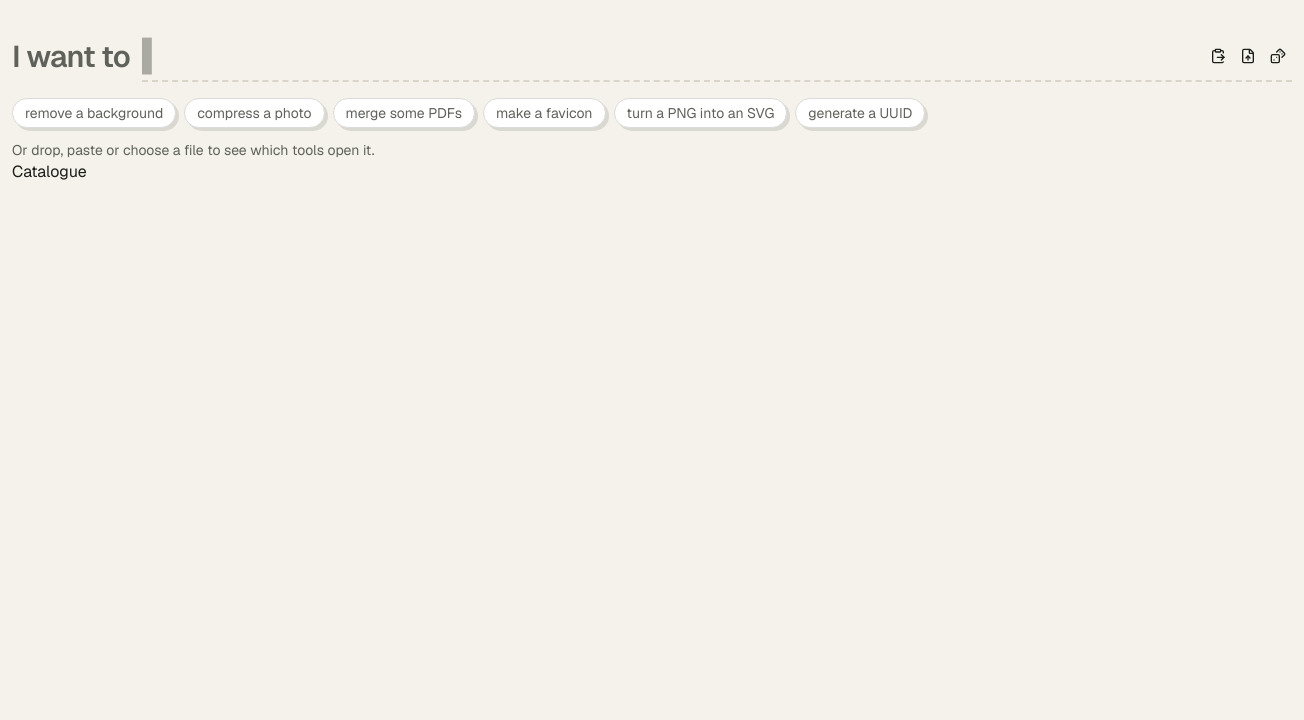
Scenario: ToolSearch › clears with Escape and with the clear button
Type "pdf" into the search field named "Search tools".
click(671, 56); type("pdf")  # box [142,32,1200,80]
Then press Escape
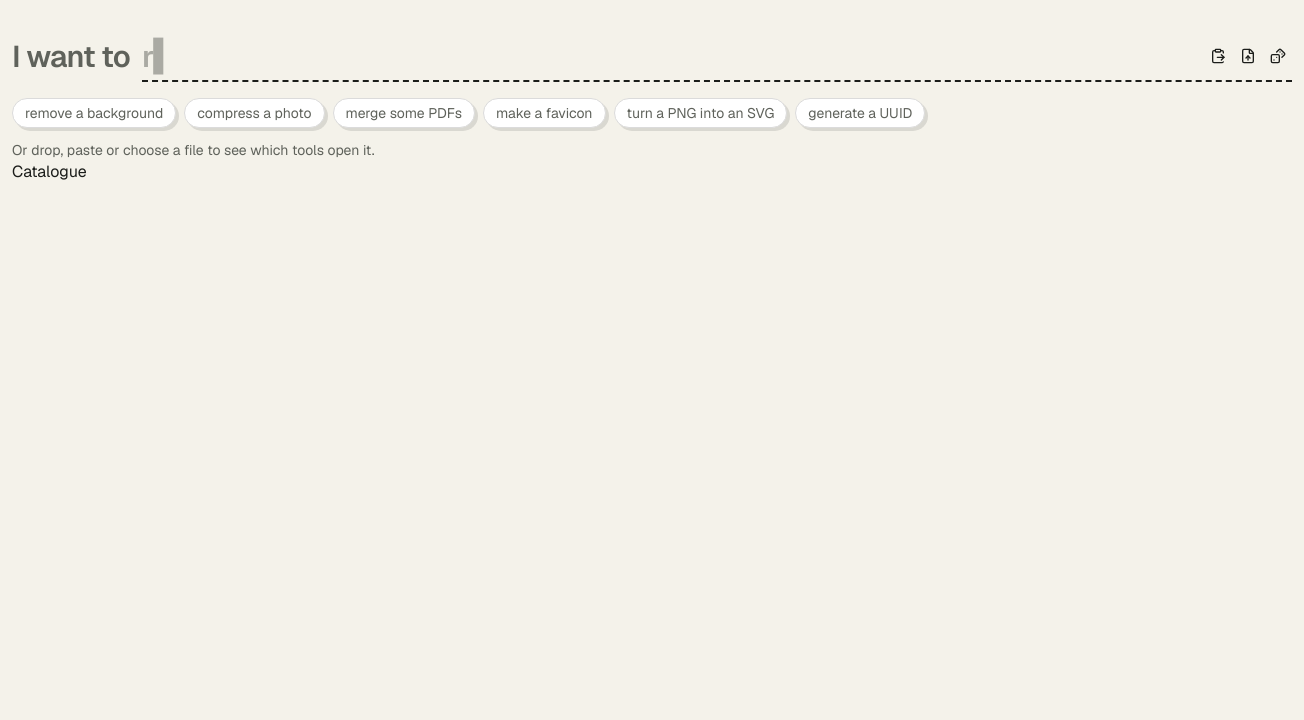
Expected: the text "Catalogue" is shown, [12,161,87,182]
Type "pdf" into the search field named "Search tools".
click(671, 56); type("pdf")  # box [142,32,1200,80]
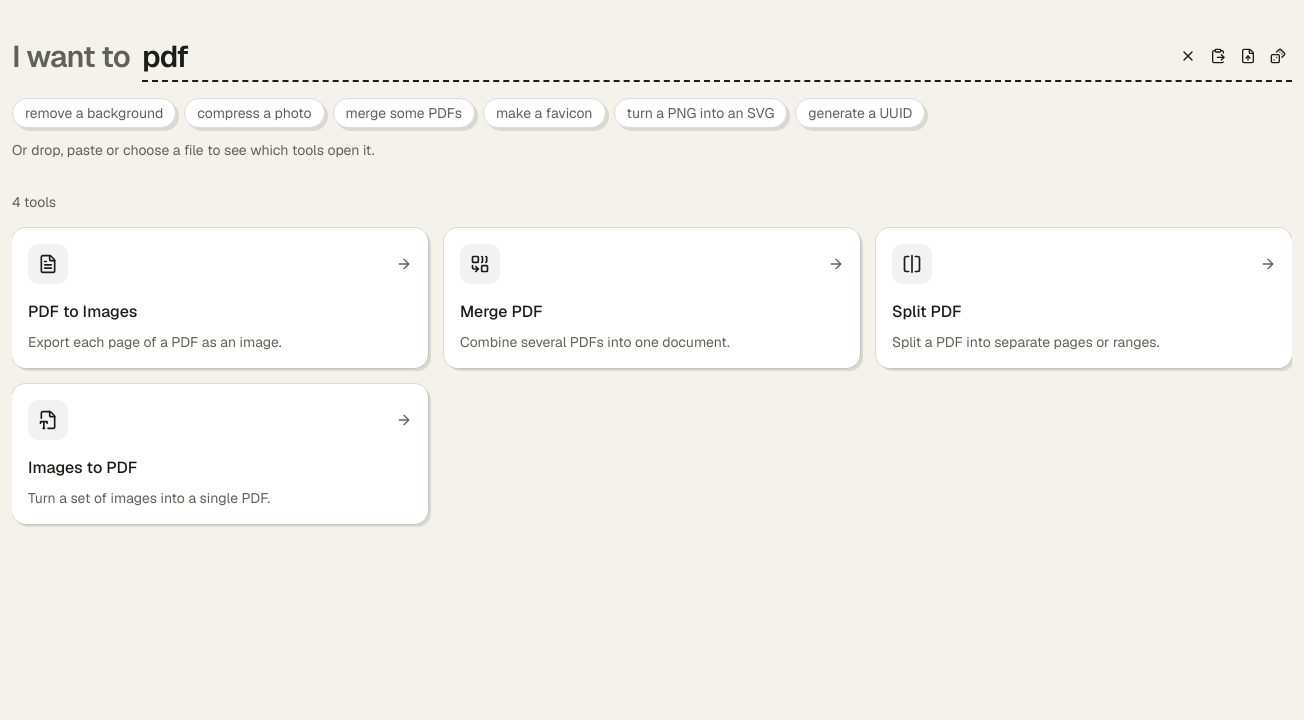
Click the button named "Clear search".
click(1188, 56)  # box [1174,42,1202,70]
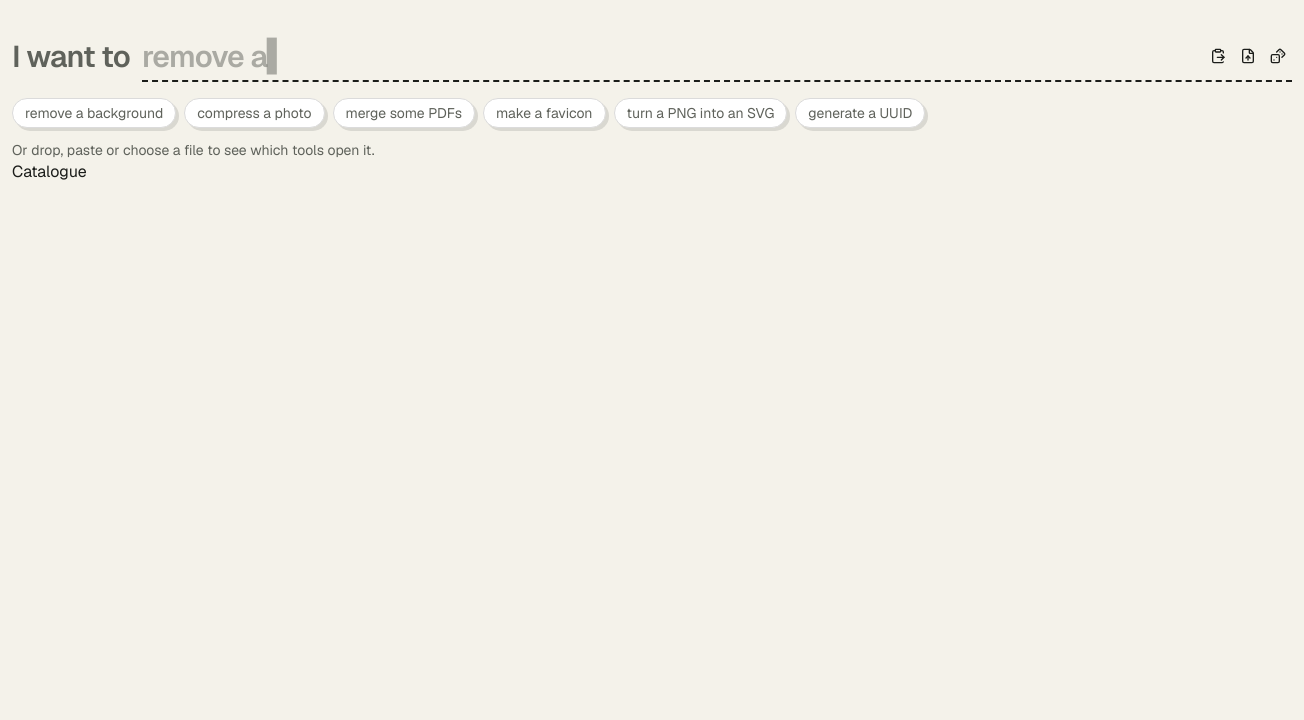
Expected: the search field named "Search tools" is empty, [142,32,1200,80]
